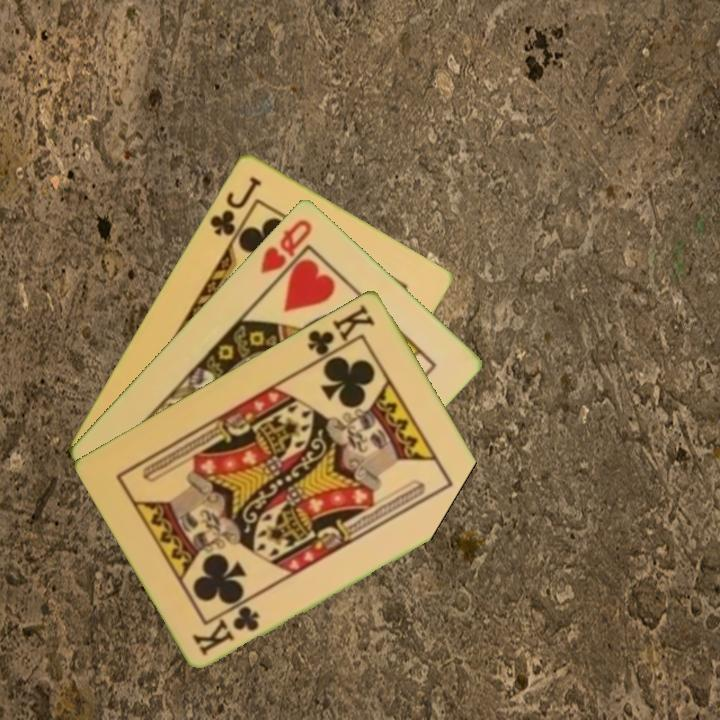Jc: (205, 172, 265, 239)
Kc: (304, 299, 379, 365), (189, 602, 263, 658)
Qh: (256, 215, 315, 276)
